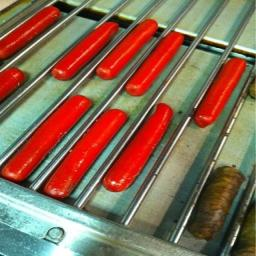hotdog: (40, 111, 134, 205), (104, 96, 184, 200), (0, 90, 94, 178), (182, 161, 246, 246), (128, 23, 194, 103), (52, 19, 128, 81), (198, 57, 254, 135), (100, 17, 164, 81), (0, 10, 73, 56), (0, 62, 30, 92)
